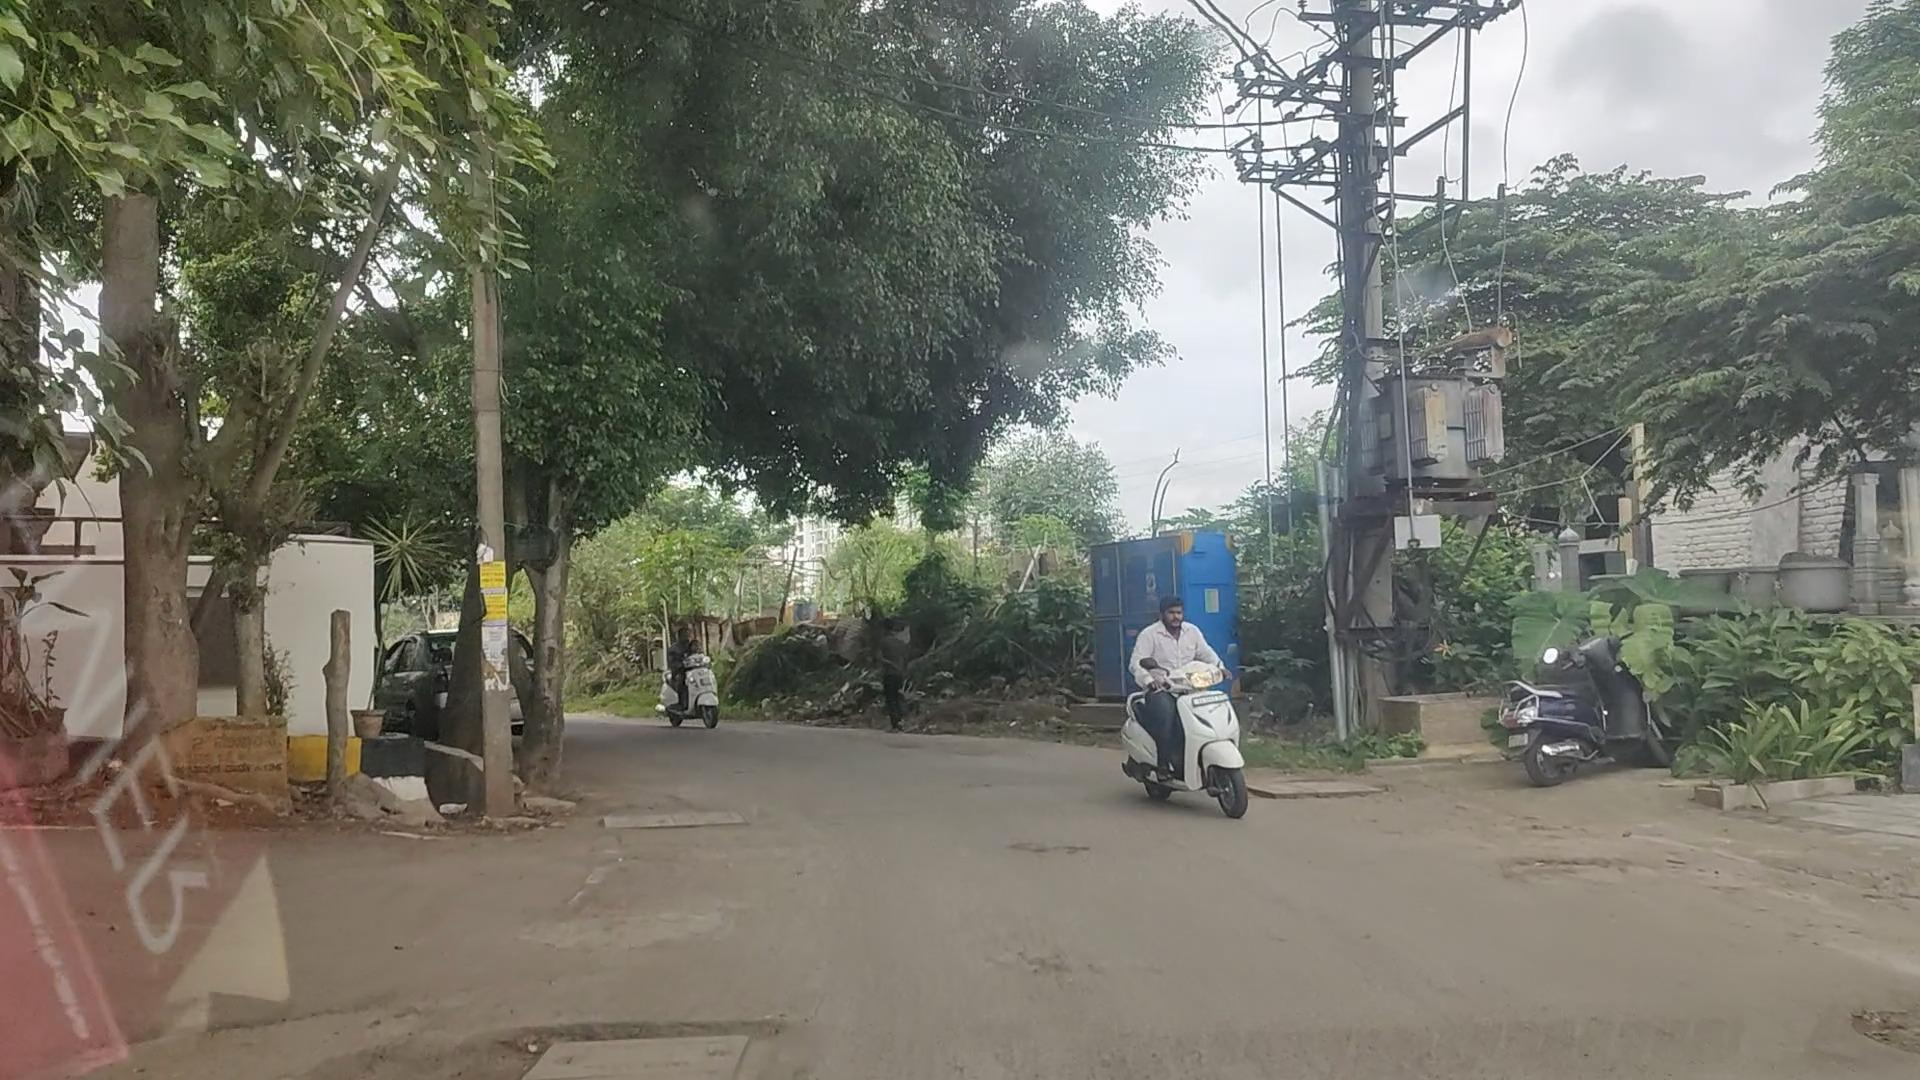LMV: (1118, 601, 1247, 827)
RoadDamages: (1465, 818, 1683, 914)
